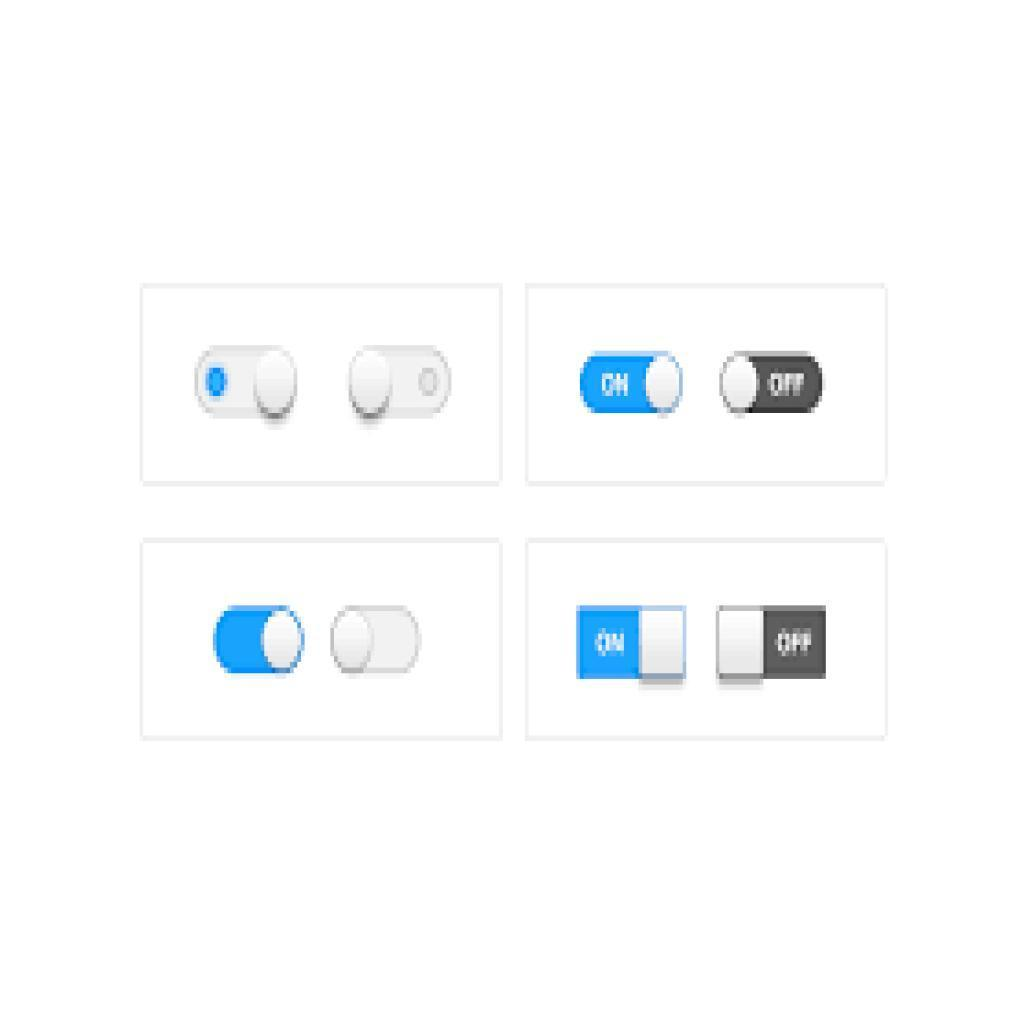switch: (574, 604, 693, 684), (716, 607, 828, 684), (197, 346, 299, 423), (349, 348, 454, 421), (580, 354, 685, 418), (723, 353, 827, 416), (213, 606, 306, 676), (330, 606, 424, 673)
